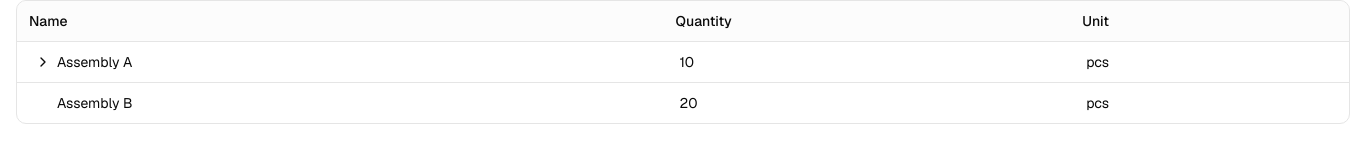
Test: EditableTreeTable › Enter commits value
Click the button "10": (687, 62) [680, 52, 694, 70]
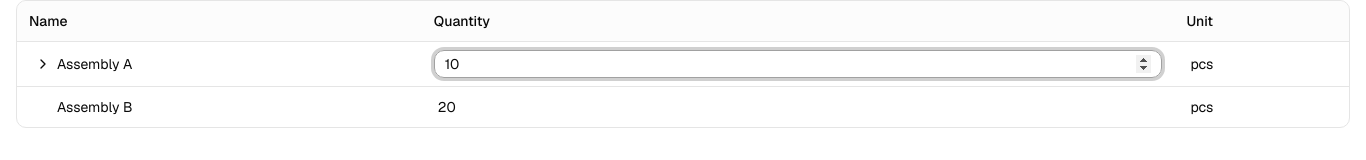
Replace the text in the number field showing "10" with "25": (798, 64) [434, 50, 1162, 78]
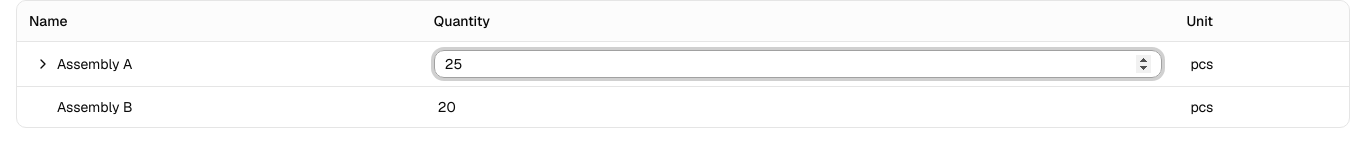
Press Enter in the number field showing "10", box [434, 50, 1162, 78]
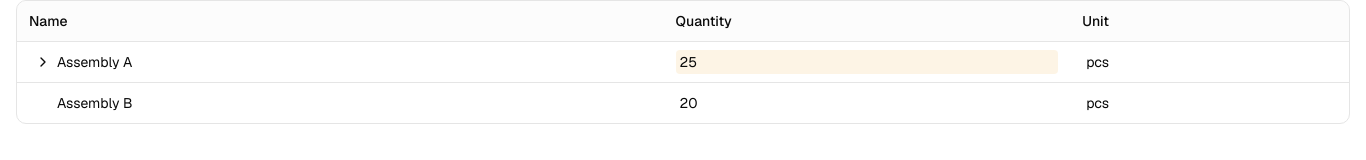
expect the button "25" is shown: met, box [676, 50, 1058, 74]
